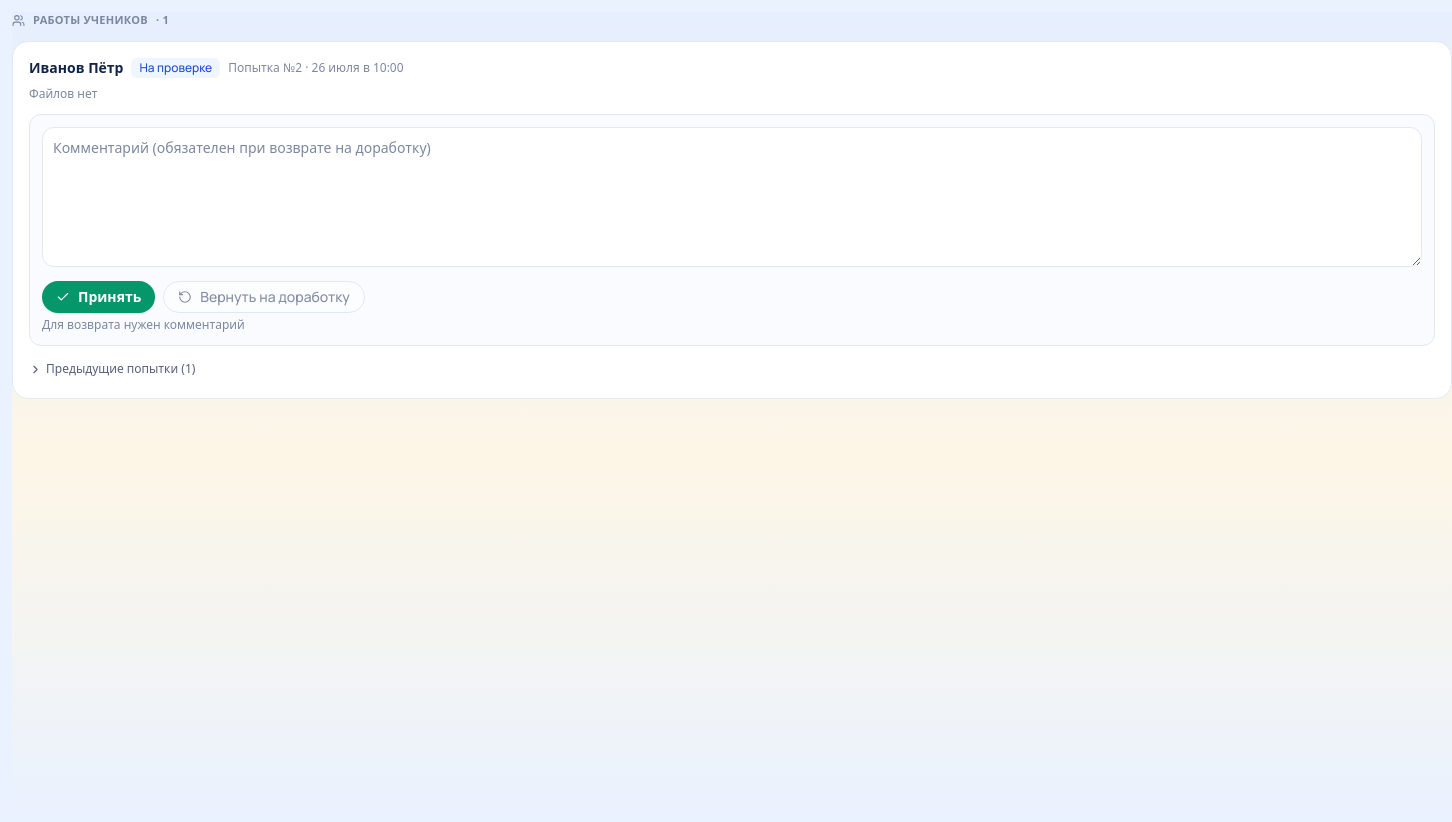
Test: Проверка ДЗ — история попыток › прячет предыдущие попытки за раскрывашкой и показывает комментарии
Expected: the text "Переделайте задачу 3" is not shown
Click the button "Предыдущие попытки (1)" at [112, 369], box 29,361 -> 195,377
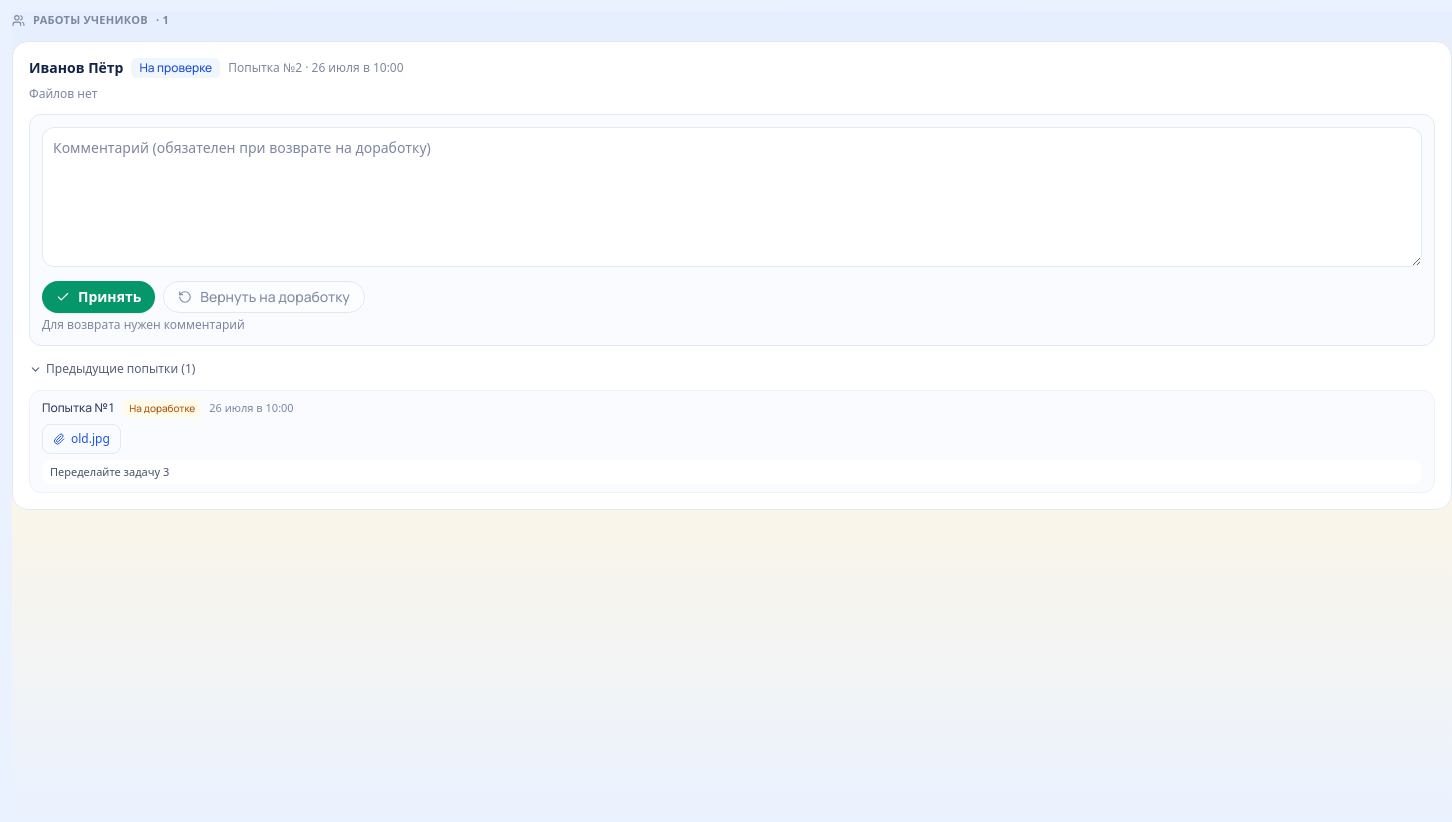
Expected: the text "Переделайте задачу 3" is shown, 42,460 -> 1422,484
Expected: the link "old.jpg" is shown, 42,424 -> 121,454
